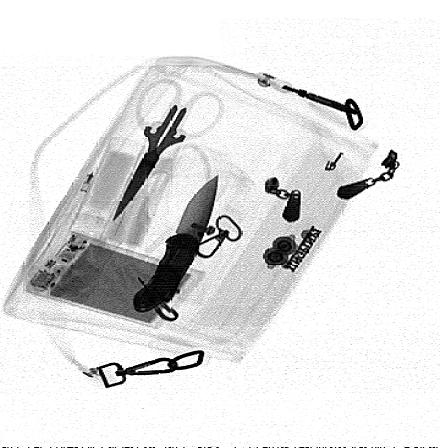Knife: (131, 174, 217, 315)
Powerbank: (23, 231, 206, 329)
Scissors: (111, 78, 225, 224)
